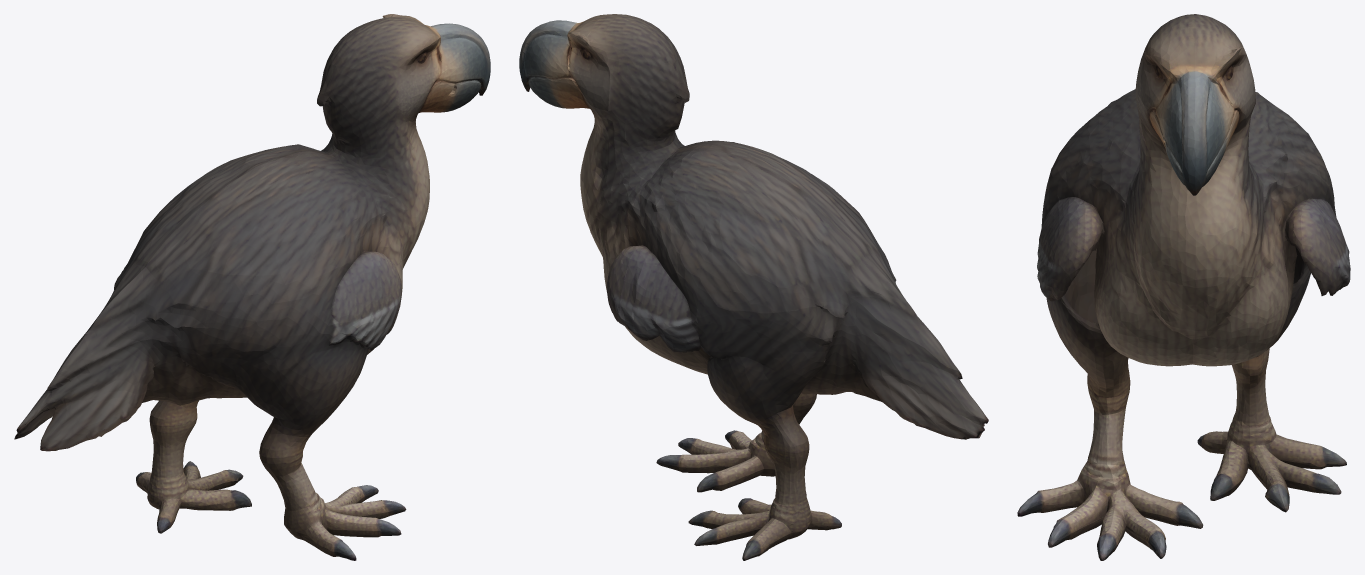
3 renders of one model, left to right at view 1: azimuth 30°, elevation 25°; view 2: azimuth 150°, elevation 25°; view 3: azimuth 270°, elevation 25°, orthographic. The views are drawn at different scales.
Parts seen in each view (by area): view 1: world; view 2: world; view 3: world.
Boxes of the visible parts, left/top/right/bottom form: world: left=14, top=14, right=490, bottom=560; world: left=519, top=14, right=988, bottom=560; world: left=1017, top=14, right=1350, bottom=560.
Bounding box in the file's own units: 1 × 0.9316 × 0.5064.
1 material, 1 textured.
